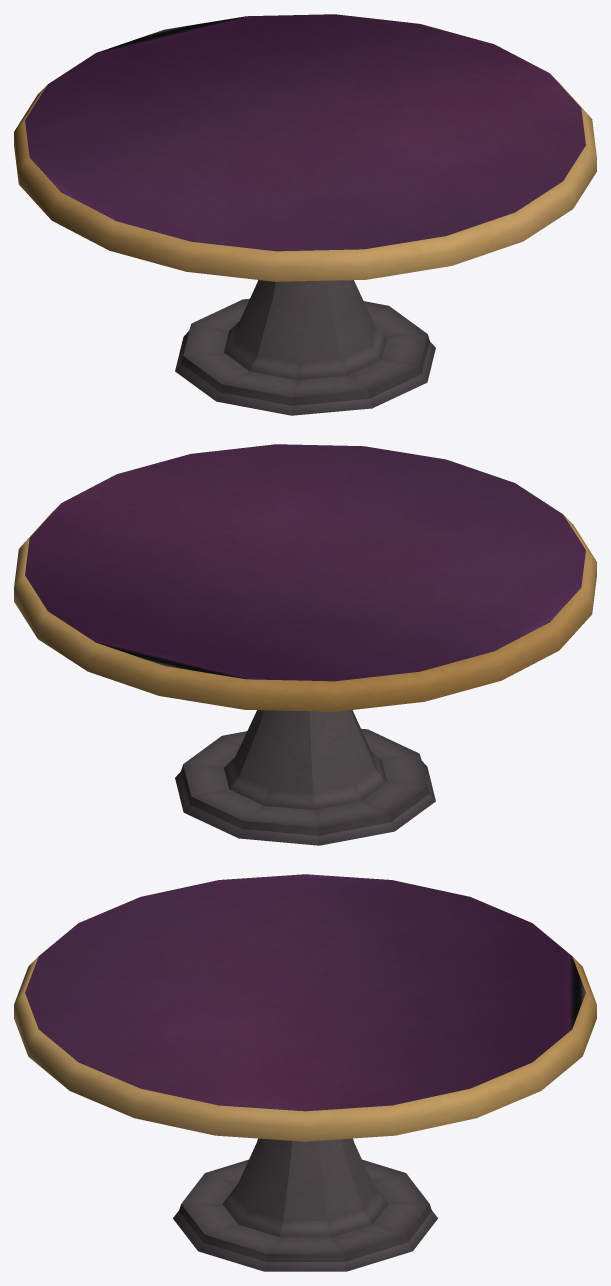
File: SM_dining_table_circle.fbx
The picture shows the model from 3 angles, top to bottom: view 1: azimuth 30°, elevation 25°; view 2: azimuth 150°, elevation 25°; view 3: azimuth 270°, elevation 25°; orthographic projection.
Parts seen in each view (by area): view 1: Sm_dining_table_circle; view 2: Sm_dining_table_circle; view 3: Sm_dining_table_circle.
Part boxes in pixels (x1,y1,x2,y2): Sm_dining_table_circle: (14,14,596,415); Sm_dining_table_circle: (14,444,596,845); Sm_dining_table_circle: (14,874,596,1271).
Bounding box in the file's own units: 2.03 × 0.8683 × 2.03.
